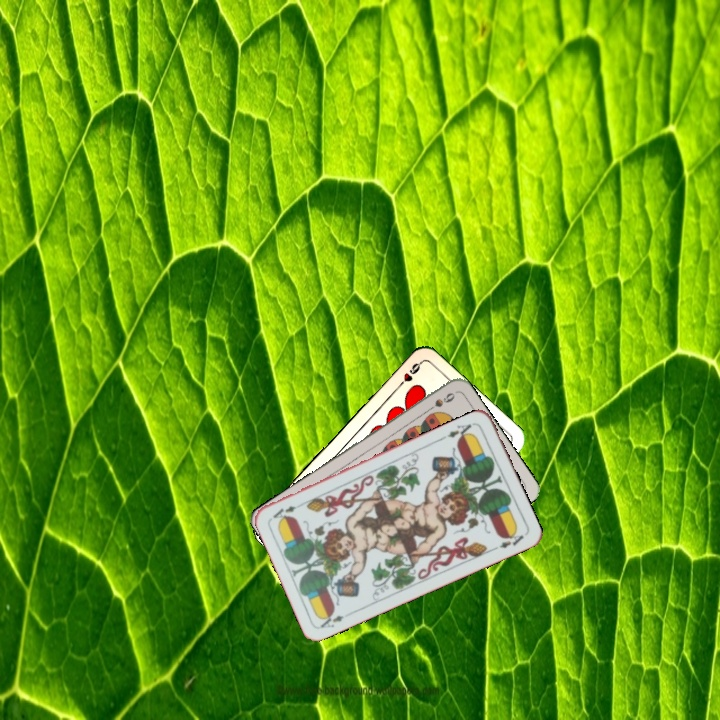EA: (439, 419, 477, 443), (316, 608, 346, 631)
H9: (393, 358, 424, 391)
S9: (421, 388, 458, 416)
